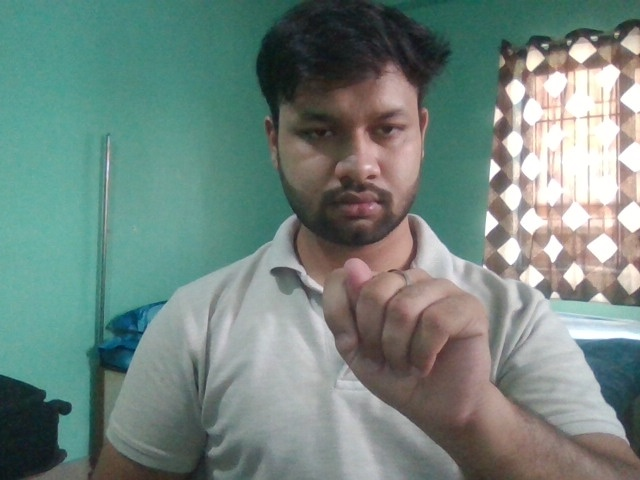Bathroom: (321, 257, 497, 428)
